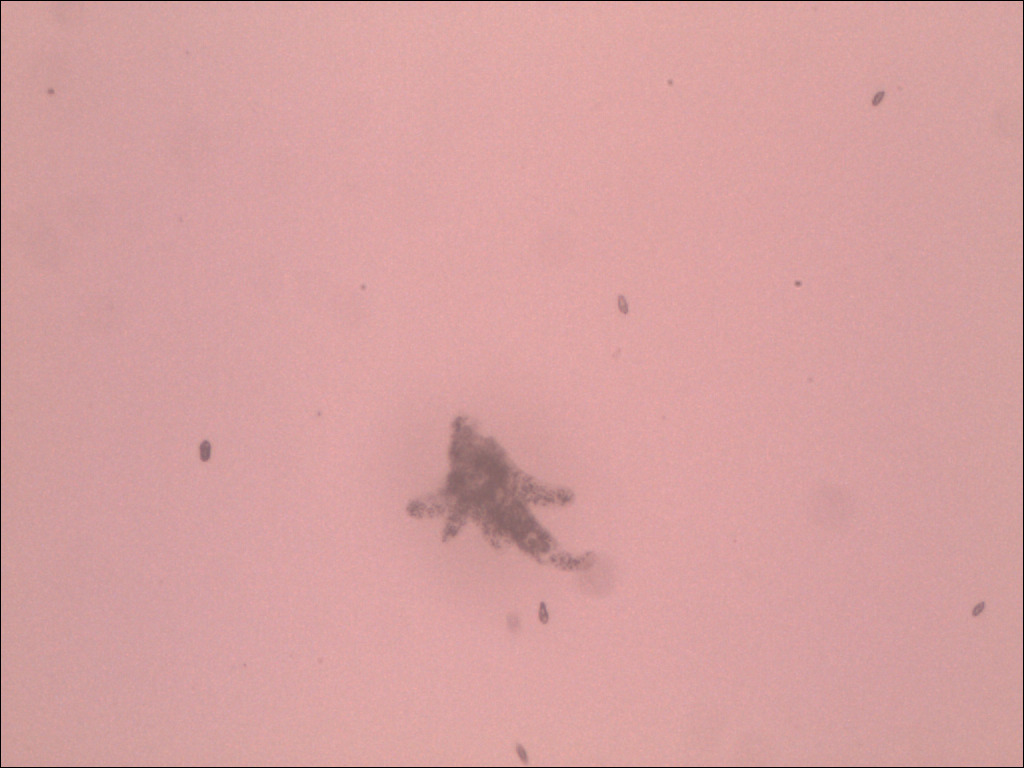amoeba: (399, 407, 622, 589)
